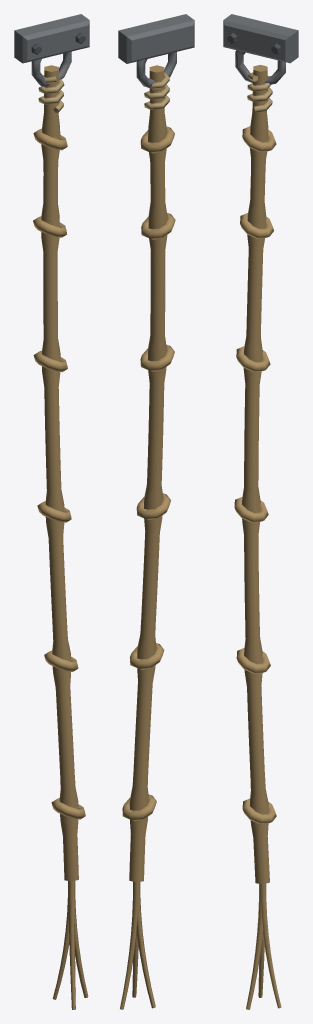
File: SM_LPD_Struct_RopeDescentHanging_01.fbx
The picture shows the model from 3 angles, left to right: view 1: azimuth 30°, elevation 25°; view 2: azimuth 210°, elevation 25°; view 3: azimuth 330°, elevation 25°; orthographic projection.
Parts seen in each view (by area): view 1: SM_LPD_Struct_RopeDescentHanging_01; view 2: SM_LPD_Struct_RopeDescentHanging_01; view 3: SM_LPD_Struct_RopeDescentHanging_01.
Boxes of the visible parts, x1=… form: SM_LPD_Struct_RopeDescentHanging_01: x1=14, y1=14, x2=89, y2=1009; SM_LPD_Struct_RopeDescentHanging_01: x1=118, y1=14, x2=194, y2=1009; SM_LPD_Struct_RopeDescentHanging_01: x1=223, y1=14, x2=298, y2=1009.
Size of the model in its own units: 0.26 by 3.6 by 0.1819.
